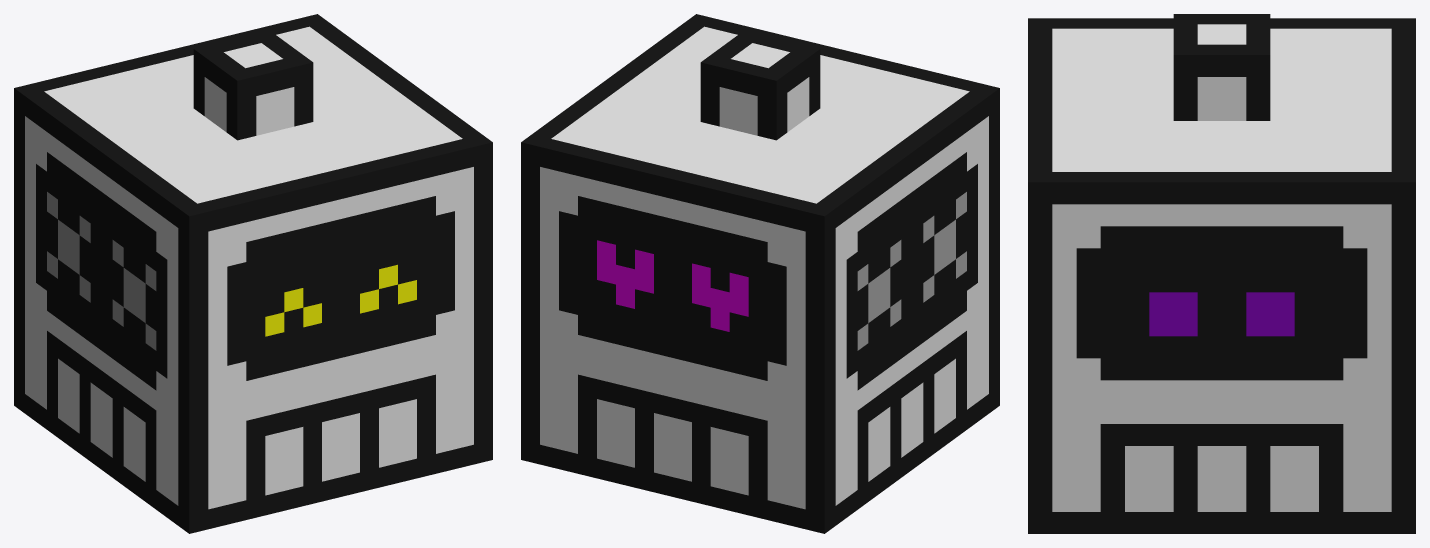
The model's file is tete_robot_top.obj.
The picture shows the model from 3 angles, left to right: view 1: azimuth 30°, elevation 25°; view 2: azimuth 150°, elevation 25°; view 3: azimuth 270°, elevation 25°; orthographic projection. The views are drawn at different scales.
Size of the model in its own units: 1.6 by 1.9 by 1.6.
1 material, 1 textured.
